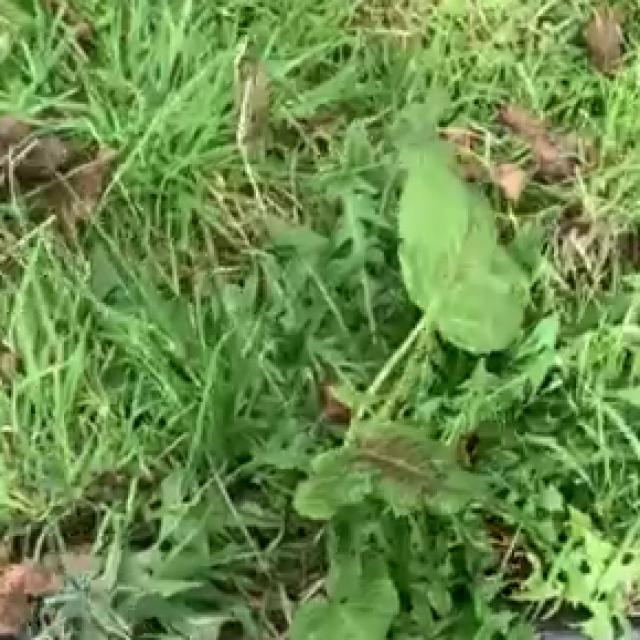organic waste: (287, 143, 609, 638)
